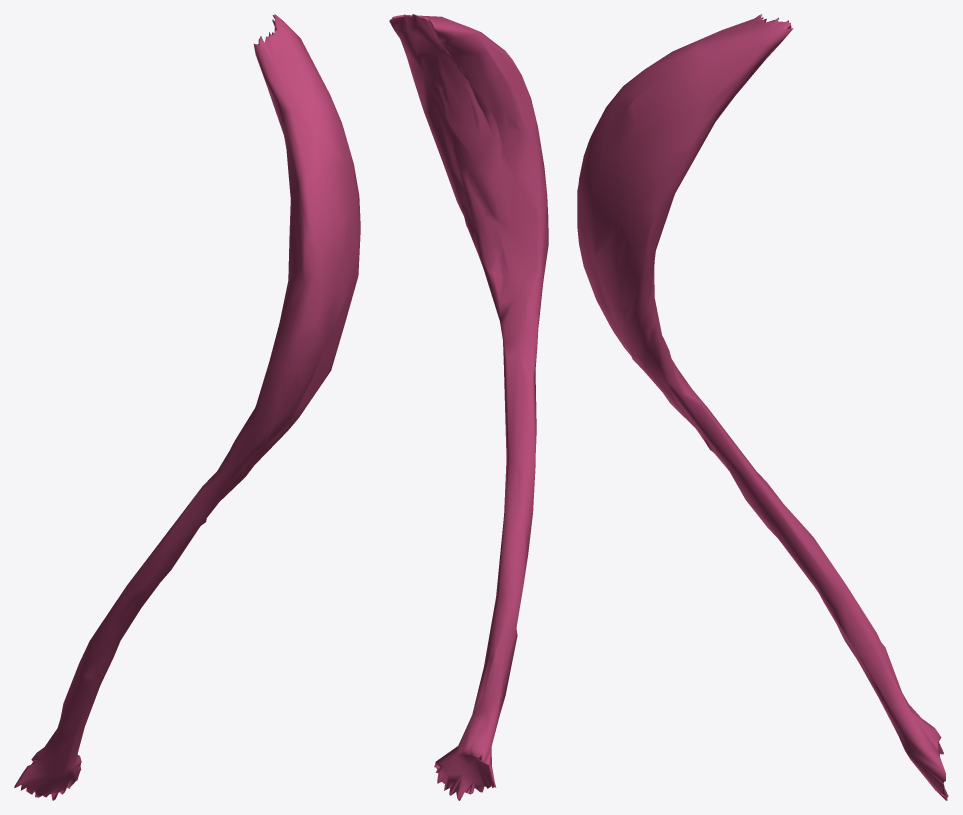
3 renders of one model, left to right at view 1: azimuth 30°, elevation 25°; view 2: azimuth 150°, elevation 25°; view 3: azimuth 270°, elevation 25°, orthographic. The views are drawn at different scales.
Visible parts, largest first — view 1: 左侧踇短伸肌; view 2: 左侧踇短伸肌; view 3: 左侧踇短伸肌.
Boxes of the visible parts, x1,y1,x2,y2 form: 左侧踇短伸肌: (14,14,360,800); 左侧踇短伸肌: (389,14,548,800); 左侧踇短伸肌: (577,14,948,800).
Bounding box in the file's own units: 0.0499 × 0.1795 × 0.0706.
